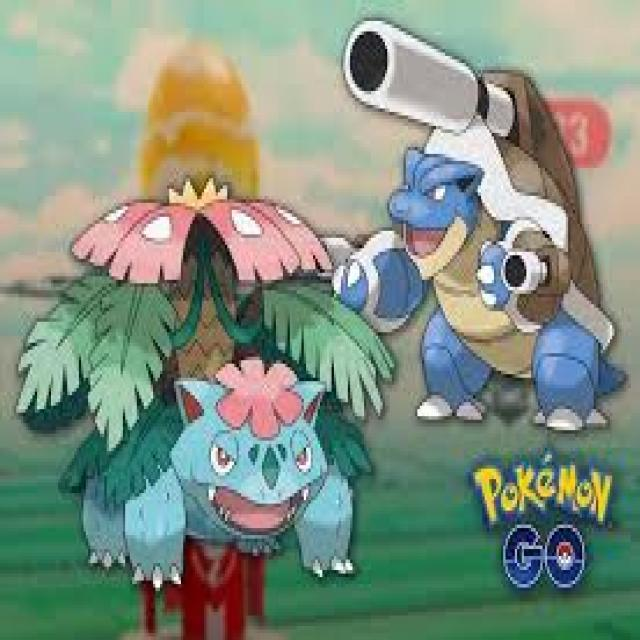Blastoise: (350, 17, 610, 429)
Venusaur: (72, 194, 336, 566)
